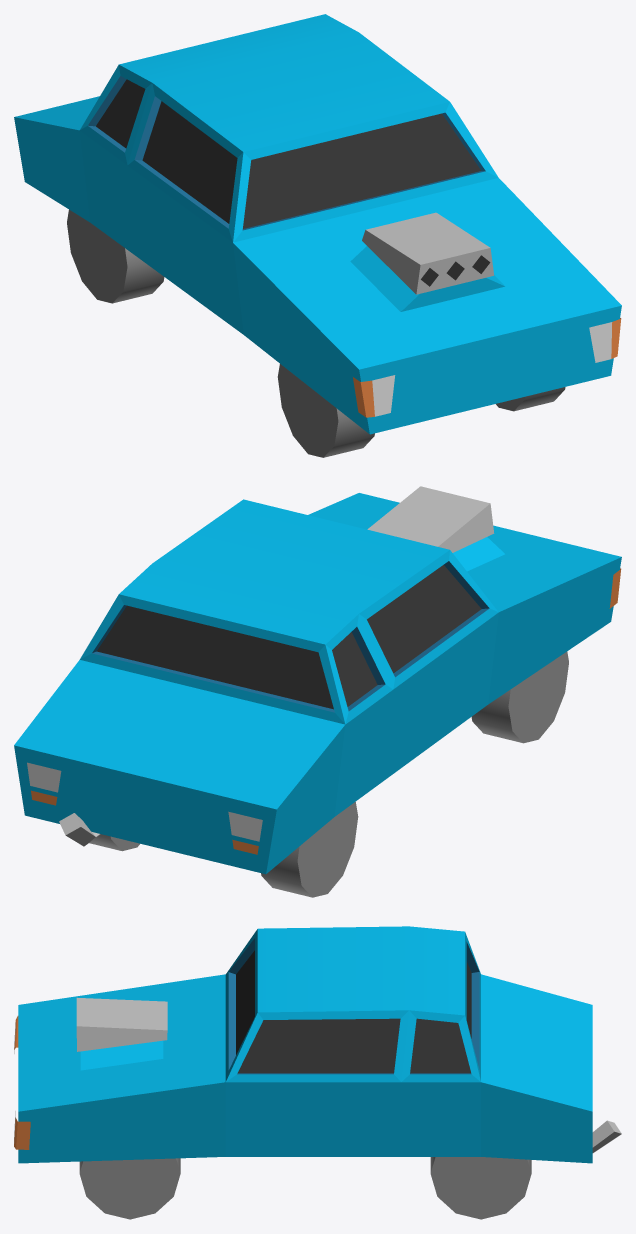
File: musclecar_03.fbx
3 views of the same model, one above another, from view 1: azimuth 30°, elevation 25°; view 2: azimuth 150°, elevation 25°; view 3: azimuth 270°, elevation 25° (orthographic). The views are drawn at different scales.
Visible parts, largest first — view 1: musclecar_03; view 2: musclecar_03; view 3: musclecar_03.
Part boxes in pixels (x1,y1,x2,y2): musclecar_03: (14, 14, 621, 457); musclecar_03: (14, 486, 621, 897); musclecar_03: (14, 926, 621, 1219).
Bounding box in the file's own units: 1.6 × 1.41 × 3.81.
